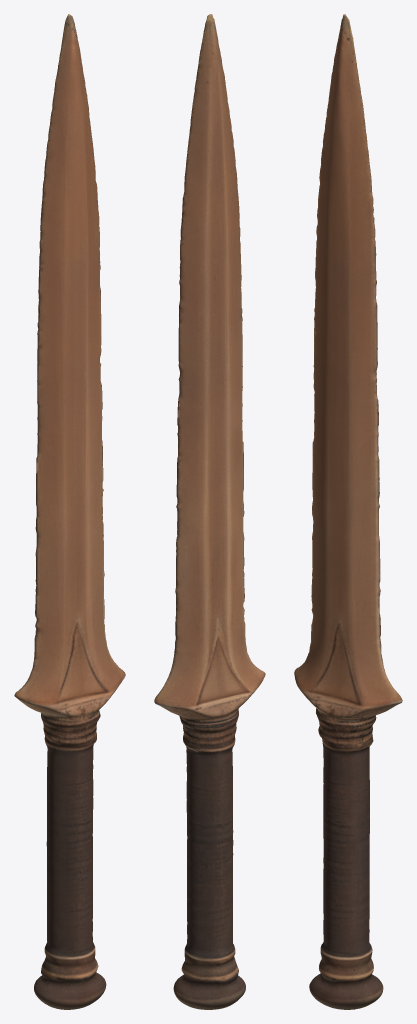
Rendered from Copper Sword.fbx.
3 renders of one model, left to right at view 1: azimuth 30°, elevation 25°; view 2: azimuth 210°, elevation 25°; view 3: azimuth 330°, elevation 25°, orthographic.
Parts seen in each view (by area): view 1: Mesh_0; view 2: Mesh_0; view 3: Mesh_0.
Boxes of the visible parts, <box> form: Mesh_0: <box>14,14,125,1009</box>; Mesh_0: <box>154,14,265,1009</box>; Mesh_0: <box>294,14,402,1009</box>.
Size of the model in its own units: 23.02 by 200 by 12.41.
Materials: 1 (1 with a texture image).
